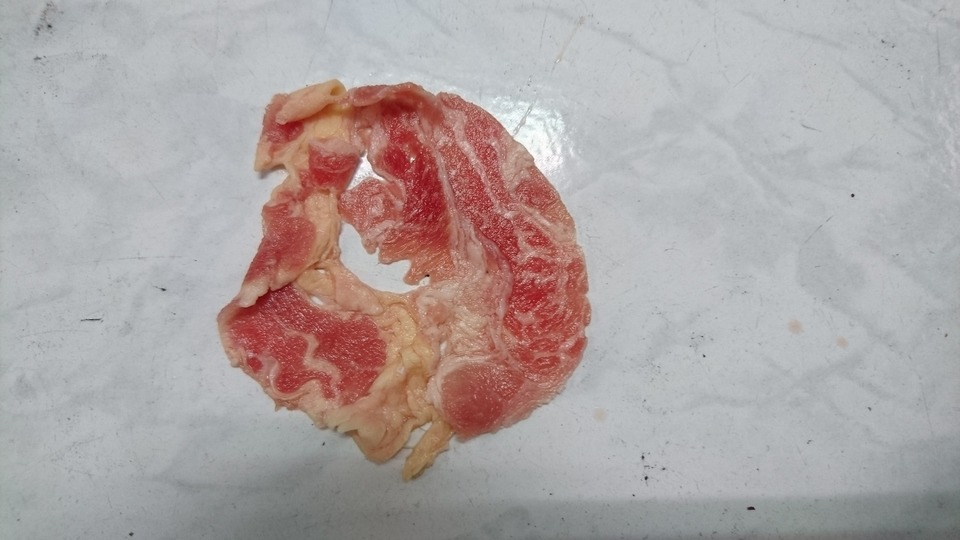restructured meat: (225, 56, 612, 481)
